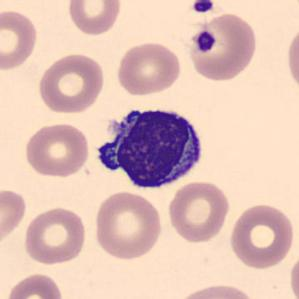Lymphocyte: (92, 100, 208, 194)
Platelets: (191, 28, 218, 54), (190, 0, 216, 15)
RBC: (187, 10, 259, 83), (92, 189, 164, 261), (226, 201, 296, 270), (36, 51, 106, 115), (165, 178, 232, 244), (21, 120, 90, 180), (22, 204, 88, 266), (114, 40, 182, 97), (0, 6, 40, 72), (65, 0, 123, 37), (0, 186, 28, 248), (4, 271, 65, 299), (172, 281, 260, 299), (284, 22, 299, 95), (287, 249, 299, 299)
